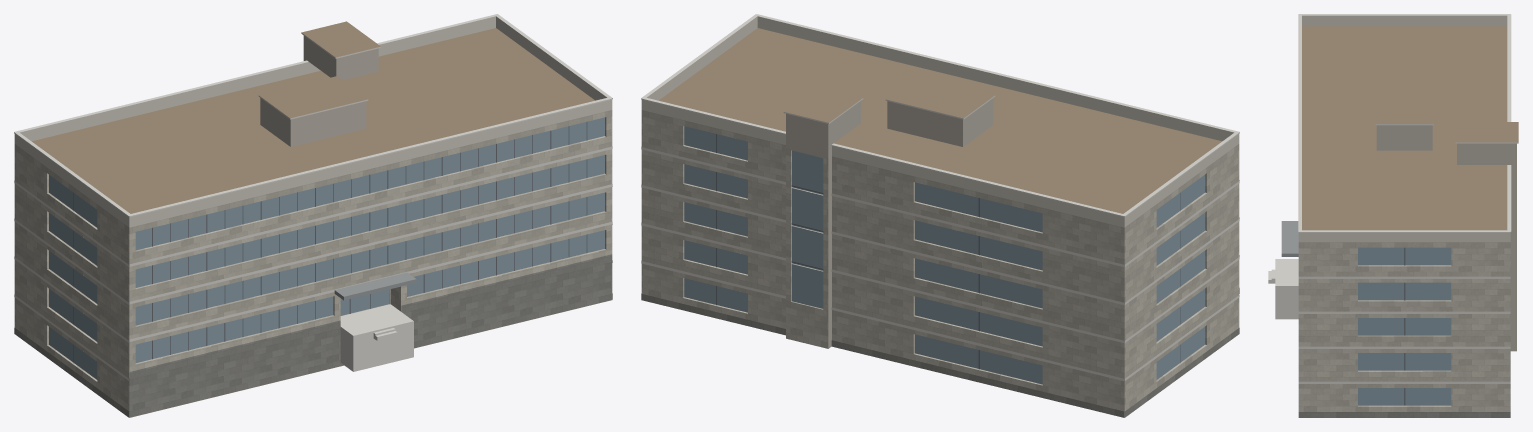
3 views of the same model, side by side, from view 1: azimuth 30°, elevation 25°; view 2: azimuth 150°, elevation 25°; view 3: azimuth 270°, elevation 25° (orthographic). The views are drawn at different scales.
Parts seen in each view (by area): view 1: b932__wall, b932__roof, b932__glass, b932__base, b932__parapet, b932__trim, b932__wall2, b932__entranceStair, b932__frame, b932__canopy; view 2: b932__wall, b932__roof, b932__glass, b932__parapet, b932__trim, b932__wall2, b932__base; view 3: b932__roof, b932__wall, b932__glass, b932__trim, b932__parapet, b932__wall2, b932__entranceStair, b932__base, b932__canopy.
Part boxes in pixels (<box>): b932__wall: <box>14,110,612,417</box>; b932__roof: <box>32,21,610,417</box>; b932__glass: <box>49,117,604,379</box>; b932__base: <box>14,254,612,417</box>; b932__parapet: <box>14,16,612,227</box>; b932__trim: <box>14,14,612,380</box>; b932__wall2: <box>260,36,378,146</box>; b932__entranceStair: <box>340,304,413,371</box>; b932__frame: <box>73,122,587,362</box>; b932__canopy: <box>334,272,416,300</box>; b932__wall: <box>641,110,1239,417</box>; b932__roof: <box>659,28,1221,213</box>; b932__glass: <box>684,126,1204,384</box>; b932__parapet: <box>641,16,1239,227</box>; b932__trim: <box>641,14,1239,380</box>; b932__wall2: <box>786,98,993,348</box>; b932__base: <box>641,288,1239,417</box>; b932__roof: <box>1302,26,1518,371</box>; b932__wall: <box>1298,242,1510,411</box>; b932__glass: <box>1358,247,1451,405</box>; b932__trim: <box>1298,14,1518,383</box>; b932__parapet: <box>1298,15,1510,242</box>; b932__wall2: <box>1376,125,1516,351</box>; b932__entranceStair: <box>1268,259,1298,319</box>; b932__base: <box>1298,412,1510,417</box>; b932__canopy: <box>1281,221,1298,256</box>.
Size of the model in its own units: 47.98 by 21.53 by 23.3.
11 materials, 2 textured.
